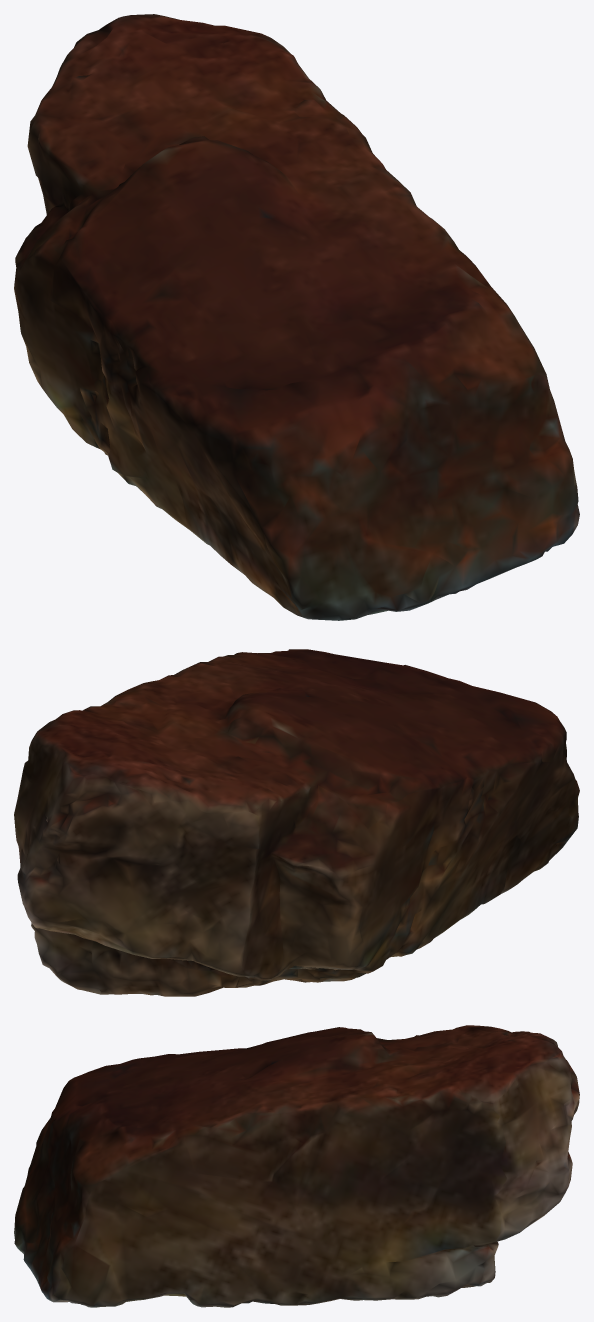
The model's file is rock_07.glb.
3 renders of one model, top to bottom at view 1: azimuth 30°, elevation 25°; view 2: azimuth 150°, elevation 25°; view 3: azimuth 270°, elevation 25°, orthographic. The views are drawn at different scales.
Visible parts, largest first — view 1: rock_07; view 2: rock_07; view 3: rock_07.
Boxes of the visible parts, left/top/right/bottom form: rock_07: left=14, top=14, right=579, bottom=620; rock_07: left=14, top=649, right=579, bottom=996; rock_07: left=14, top=1025, right=579, bottom=1307.
Size of the model in its own units: 0.1686 by 0.1437 by 0.3202.
Materials: 1 (1 with a texture image).
